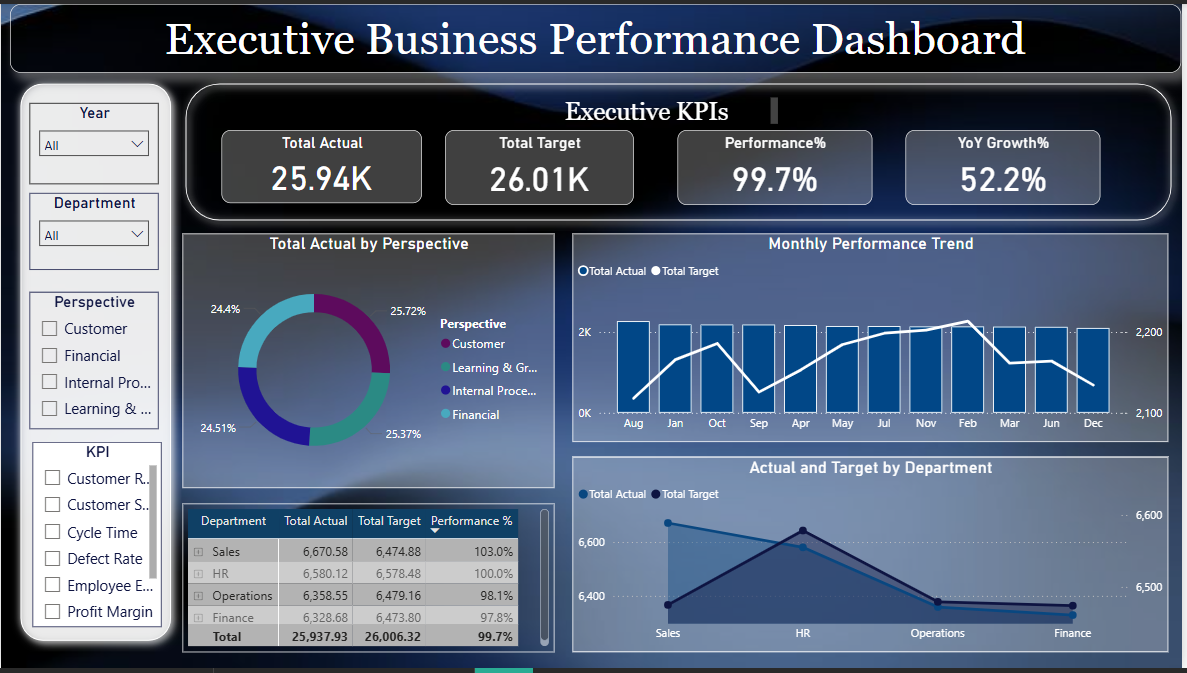

Layout of this report page (visuals, bound fields, positions):
{"tool":"powerbi","page":{"name":"Executive Business Performanc","canvas":[1280,720],"ordinal":0},"visuals":[{"type":"shape","box":[188.2,75.3,1091.8,171.5],"z":0},{"type":"shape","box":[10.5,75.3,186.1,627.5],"z":1000},{"type":"card","title":"Total Actual","fields":{"Values":["Sheet1.Total Actual"]},"box":[238.4,135.9,217.5,79.5],"z":2000},{"type":"textbox","box":[10.1,0,1269.9,74.9],"z":3000},{"type":"textbox","box":[560.5,96.2,286.5,39.7],"z":4000},{"type":"card","title":"Total Target","fields":{"Values":["Sheet1.Total Target"]},"box":[481,135.9,205,81.6],"z":5000},{"type":"card","title":"Performance%","fields":{"Values":["Sheet1.Performance %"]},"box":[734.1,135.9,211.2,81.6],"z":6000},{"type":"card","title":"YoY Growth%","fields":{"Values":["Sheet1.YoY Growth %"]},"box":[980.9,135.9,211.2,81.6],"z":7000},{"type":"lineClusteredColumnComboChart","title":"Monthly Performance Trend","fields":{"Y":["Sheet1.Total Actual"],"Y2":["Sheet1.Total Target"],"Category":["DateTable.Month"]},"box":[619.1,248.9,646.3,225.9],"z":8000},{"type":"donutChart","fields":{"Y":["Sheet1.Total Actual"],"Category":["Sheet1.Perspective"]},"box":[196.6,248.9,403.7,276.1],"z":9000},{"type":"pivotTable","fields":{"Rows":["Sheet1.Department","Sheet1.KPI"],"Values":["Sheet1.Total Actual","Sheet1.Total Target","Sheet1.Performance %"]},"box":[196.6,541.7,403.7,161],"z":10000},{"type":"areaChart","title":"Actual and Target by Department","fields":{"Category":["Sheet1.Department"],"Y":["Sheet1.Total Actual"],"Y2":["Sheet1.Total Target"]},"box":[619.1,491.5,646.3,211.2],"z":11000},{"type":"slicer","title":"Year","fields":{"Values":["DateTable.Year"]},"box":[31.4,106.7,140.1,87.8],"z":12000},{"type":"slicer","title":"Department","fields":{"Values":["Sheet1.Department"]},"box":[31.4,205,140.1,83.7],"z":13000},{"type":"slicer","title":"KPI","fields":{"Values":["Sheet1.KPI"]},"box":[33.5,474.8,140.1,200.8],"z":14000},{"type":"slicer","title":"Perspective","fields":{"Values":["Sheet1.Perspective"]},"box":[31.4,311.6,140.1,148.5],"z":15000}]}

Visuals, with their boxes in screenshot pixels (x1, y1, x2, y2), scaled from the page's 1280x720 canvas onto the 1187x673 screenshot:
shape: l=175, t=70, r=1186, b=231
shape: l=10, t=70, r=182, b=657
"Total Actual" card: l=221, t=127, r=423, b=201
textbox: l=9, t=0, r=1186, b=70
textbox: l=520, t=90, r=785, b=127
"Total Target" card: l=446, t=127, r=636, b=203
"Performance%" card: l=681, t=127, r=877, b=203
"YoY Growth%" card: l=910, t=127, r=1105, b=203
"Monthly Performance Trend" lineClusteredColumnComboChart: l=574, t=233, r=1173, b=444
donutChart - Sheet1.Total Actual x Sheet1.Perspective: l=182, t=233, r=557, b=491
pivotTable - Sheet1.Department x Sheet1.KPI: l=182, t=506, r=557, b=657
"Actual and Target by Department" areaChart: l=574, t=459, r=1173, b=657
"Year" slicer: l=29, t=100, r=159, b=182
"Department" slicer: l=29, t=192, r=159, b=270
"KPI" slicer: l=31, t=444, r=161, b=631
"Perspective" slicer: l=29, t=291, r=159, b=430
